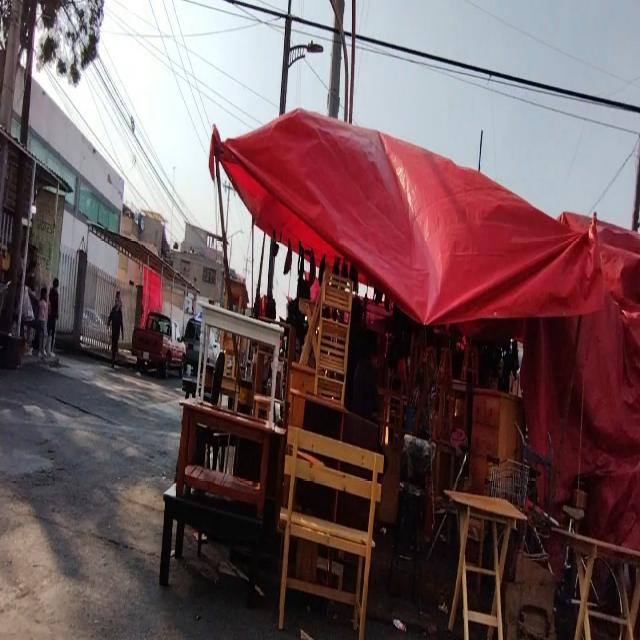adult: (108, 294, 124, 368)
